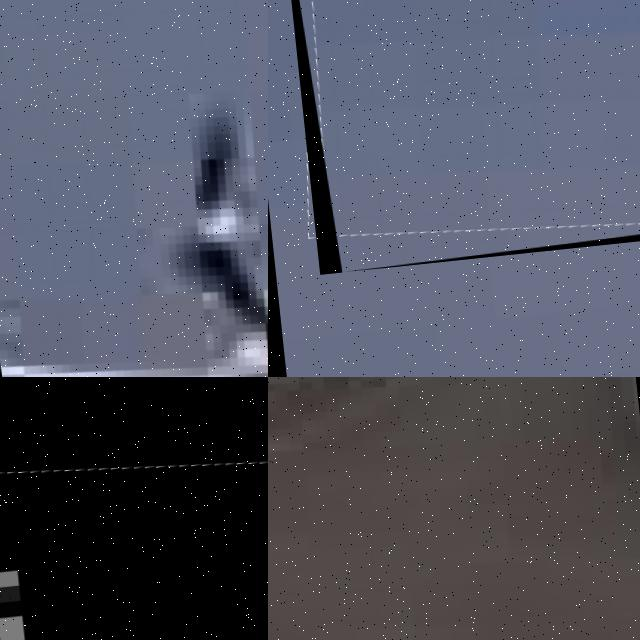0: (0, 0, 268, 377), (275, 0, 640, 274)
drone: (268, 377, 640, 640), (0, 377, 268, 517)
